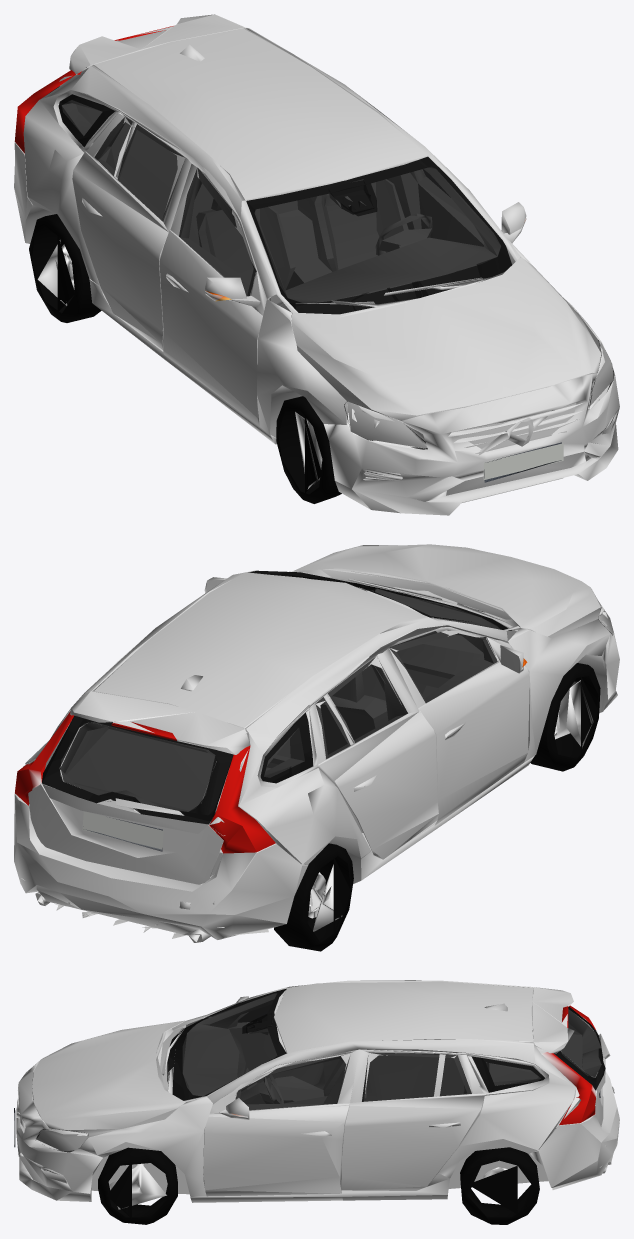
The picture shows the model from 3 angles, top to bottom: view 1: azimuth 30°, elevation 25°; view 2: azimuth 150°, elevation 25°; view 3: azimuth 270°, elevation 25°; orthographic projection. The views are drawn at different scales.
Visible parts, largest first — view 1: body, glass, wheel_RL, wheel_FL; view 2: body, glass, wheel_RL, wheel_FL; view 3: body, glass, wheel_FR, wheel_RR.
Boxes of the visible parts, left/top/right/bottom form: body: left=14, top=14, right=619, bottom=515; glass: left=46, top=86, right=614, bottom=449; wheel_RL: left=37, top=234, right=74, bottom=312; wheel_FL: left=295, top=412, right=322, bottom=493; body: left=14, top=544, right=619, bottom=951; glass: left=42, top=570, right=612, bottom=824; wheel_RL: left=308, top=857, right=351, bottom=935; wheel_FL: left=554, top=676, right=598, bottom=753; body: left=14, top=980, right=619, bottom=1224; glass: left=35, top=988, right=605, bottom=1152; wheel_FR: left=106, top=1162, right=166, bottom=1218; wheel_RR: left=468, top=1166, right=517, bottom=1214.
Bounding box in the file's own units: 2.05 × 1.47 × 4.63.
